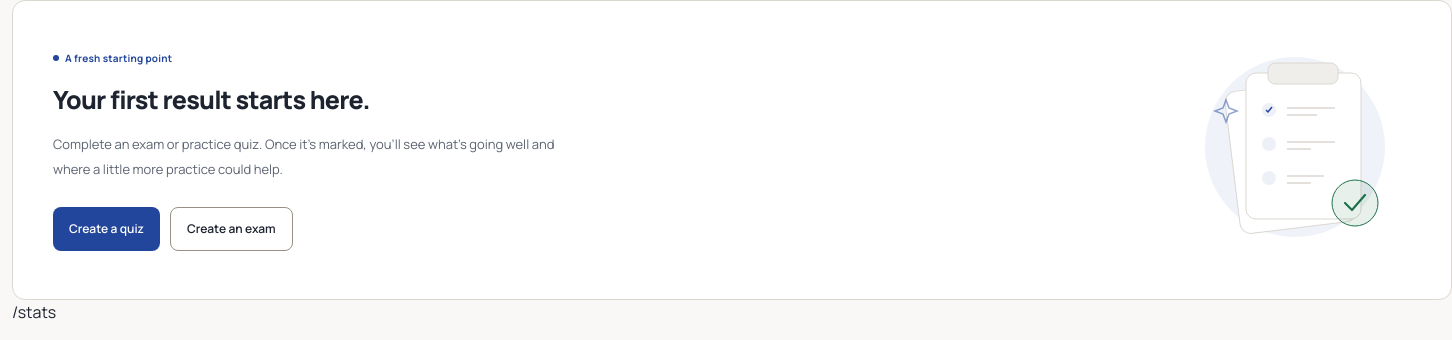
Scenario: first-result actions keep the selected subject and saved profile on the existing creation routes
Click the button "Create an exam" at (231, 229), box [170, 207, 293, 251]
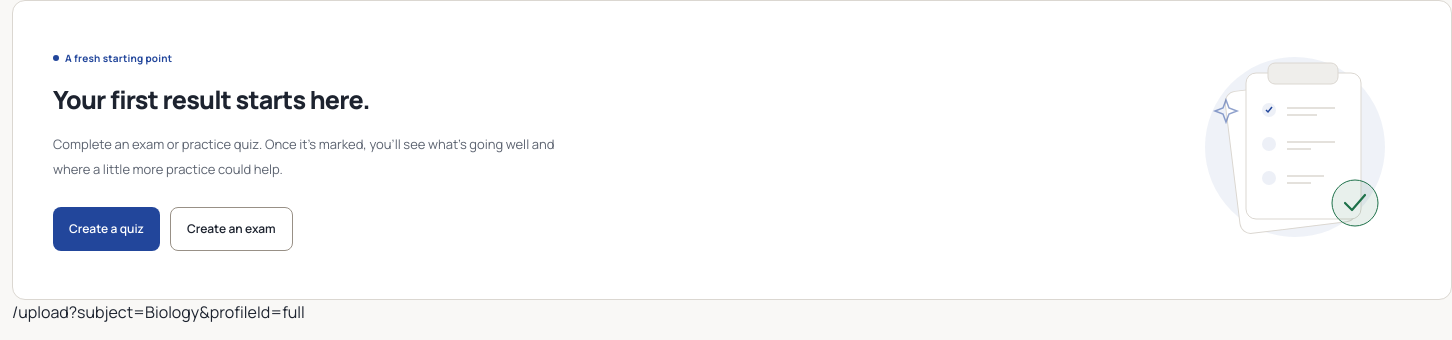
Expected: the text named "Destination" reads "/upload?subject=Biology&profileId=full", [12, 301, 305, 323]
Click the button "Create a quiz" at (106, 229), box [53, 207, 160, 251]
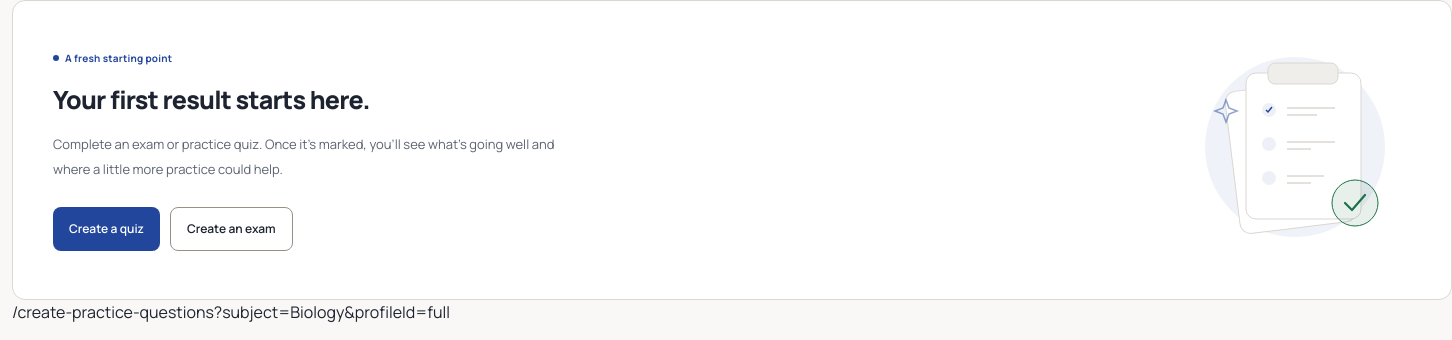
Expected: the text named "Destination" reads "/create-practice-questions?subject=Biology&profileId=full", [12, 301, 450, 323]
